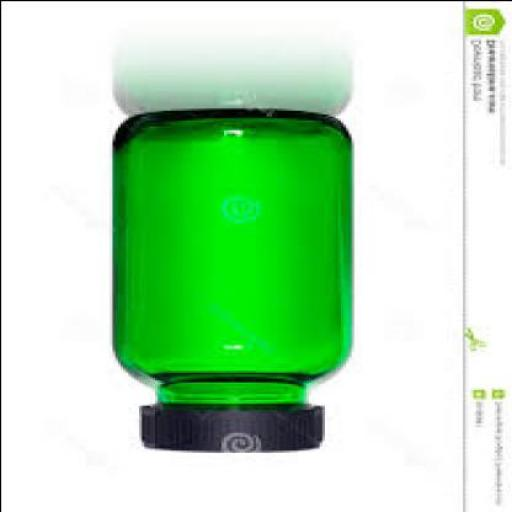glass: (109, 110, 350, 408)
plastic: (138, 404, 320, 454)
